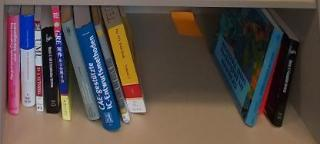book-spine: (73, 20, 122, 135), (243, 26, 286, 130), (59, 17, 100, 124), (92, 22, 131, 126), (106, 23, 147, 118), (269, 38, 300, 129), (50, 6, 72, 126), (40, 26, 59, 114), (20, 13, 35, 109), (6, 14, 19, 116), (34, 19, 44, 113)
